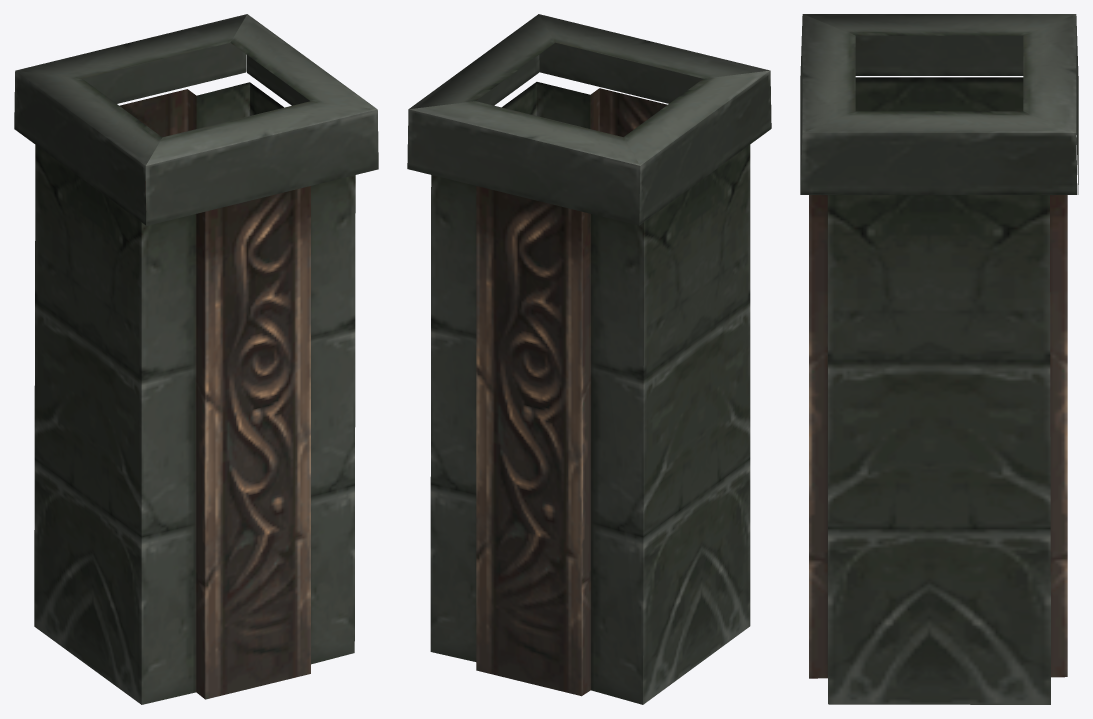
The model's file is sn_newshanlin_dizhu_001.FBX.
3 renders of one model, left to right at view 1: azimuth 30°, elevation 25°; view 2: azimuth 150°, elevation 25°; view 3: azimuth 270°, elevation 25°, orthographic. The views are drawn at different scales.
Visible parts, largest first — view 1: sn_newshanlin_dizhu_001; view 2: sn_newshanlin_dizhu_001; view 3: sn_newshanlin_dizhu_001.
Part boxes in pixels (x1,y1,x2,y2): sn_newshanlin_dizhu_001: (14,14,378,704); sn_newshanlin_dizhu_001: (407,14,771,704); sn_newshanlin_dizhu_001: (800,14,1078,704).
Size of the model in its own units: 31.62 by 71.64 by 31.2.
